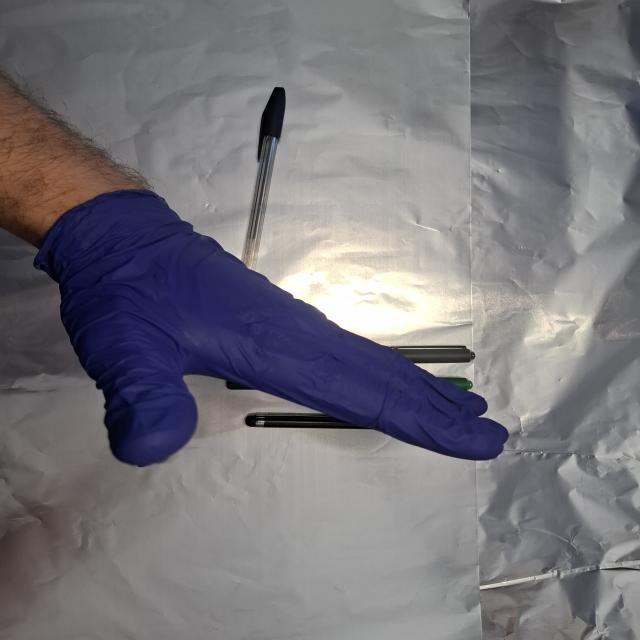glove_on: (38, 186, 514, 469)
